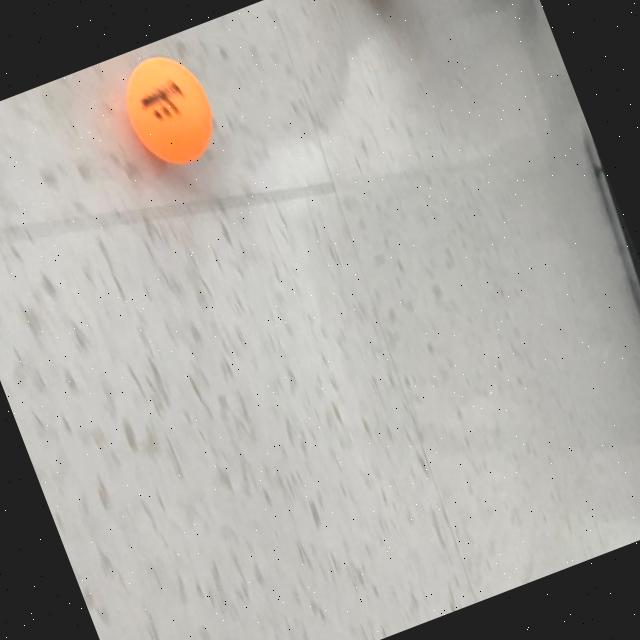ping-pong-ball: (106, 36, 233, 182)
